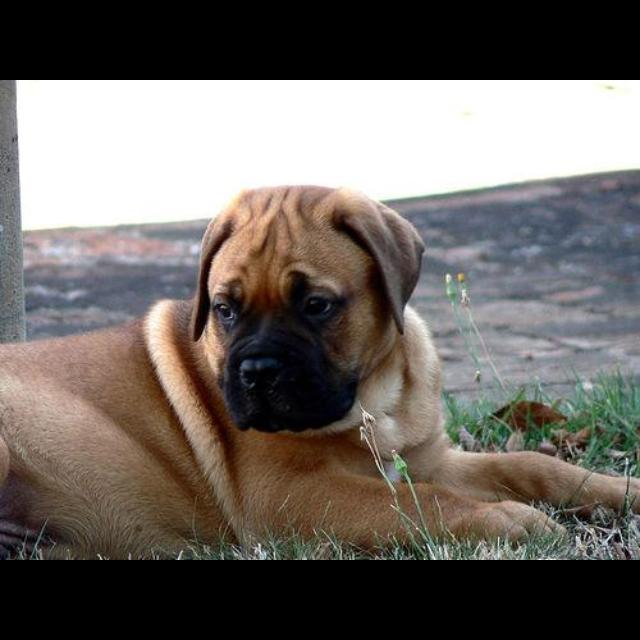bullmastiff: (1, 184, 639, 560)
